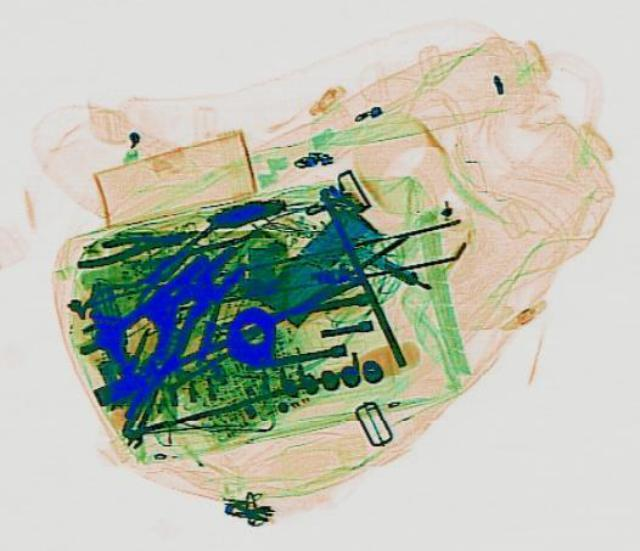Pliers: (48, 236, 244, 419), (68, 218, 198, 269)
